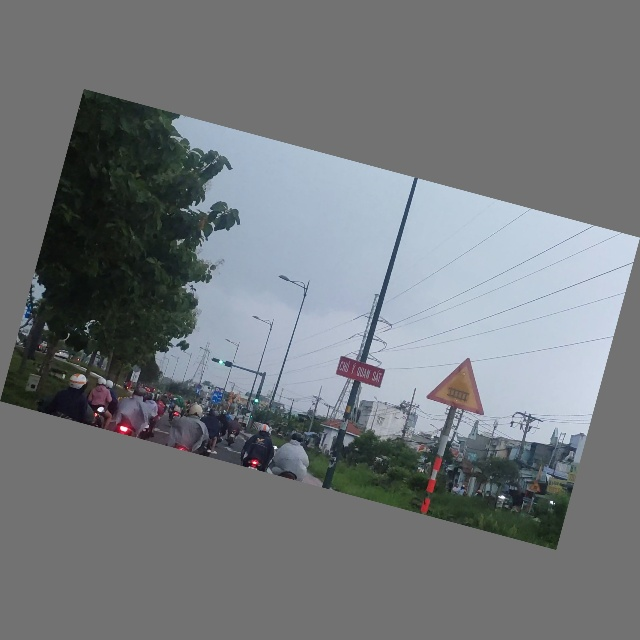I.407a: (195, 389, 201, 395)
W.210: (425, 350, 498, 418)
